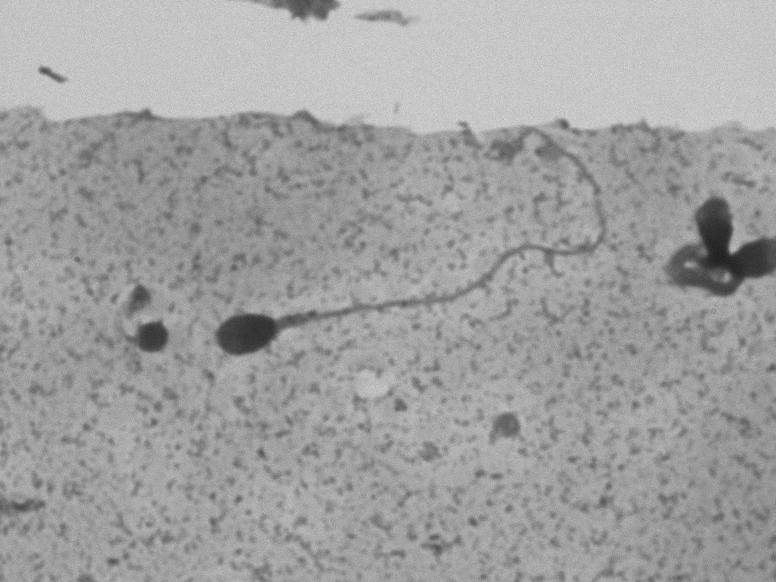Normal: (204, 129, 620, 370)
